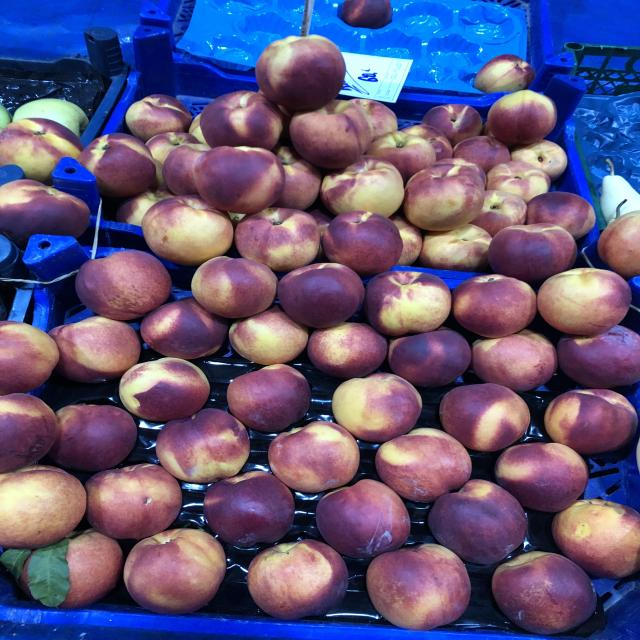peach: (366, 544, 470, 630), (123, 528, 226, 614), (492, 551, 596, 634), (428, 479, 528, 564), (247, 539, 348, 619), (0, 465, 86, 549), (375, 428, 471, 502), (156, 409, 250, 484), (76, 250, 172, 321), (268, 420, 360, 493), (142, 196, 234, 266), (537, 268, 631, 335), (332, 373, 422, 442), (194, 146, 285, 214), (544, 390, 637, 454), (119, 358, 210, 421), (277, 263, 365, 328), (364, 271, 451, 336), (227, 364, 311, 431), (234, 208, 321, 271), (199, 91, 289, 150), (191, 257, 277, 318), (229, 307, 308, 365), (307, 323, 387, 379)
